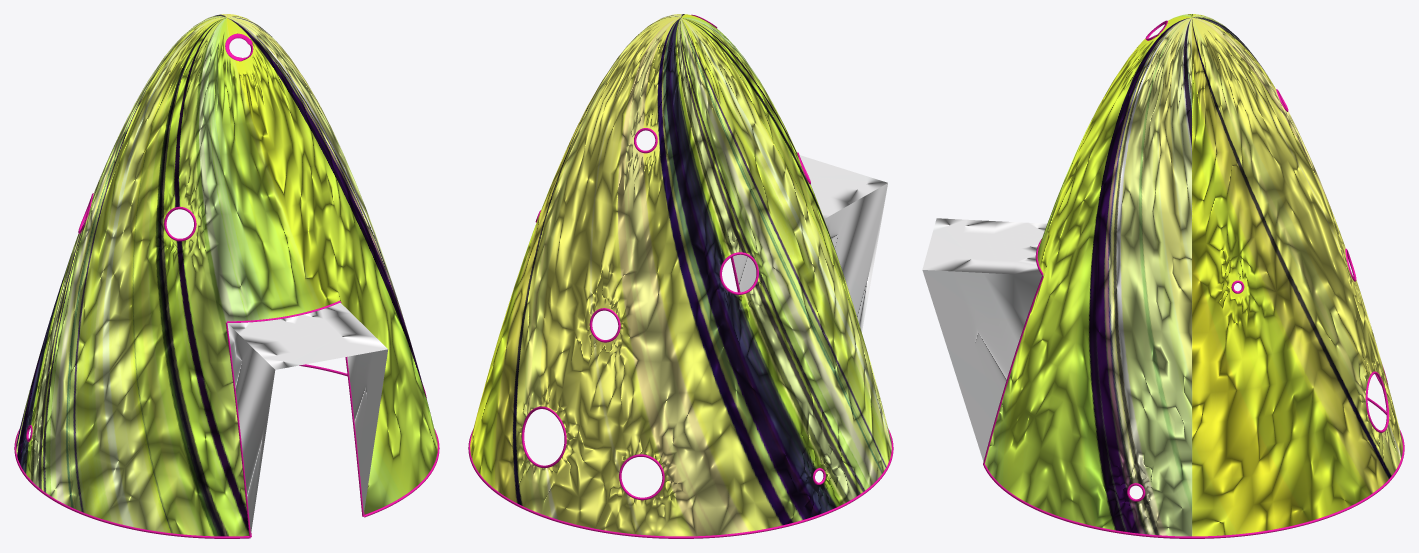
The picture shows the model from 3 angles, left to right: view 1: azimuth 30°, elevation 25°; view 2: azimuth 150°, elevation 25°; view 3: azimuth 270°, elevation 25°; orthographic projection.
Parts seen in each view (by area): view 1: Solids, Solids_2, Canopy_2, Openings, Canopy; view 2: Solids, Solids_2, Canopy_2, Openings, Canopy; view 3: Solids, Solids_2, Canopy_2, Openings.
Boxes of the visible parts, x1=… form: Solids: x1=16, y1=14, x2=437, y2=536; Solids_2: x1=16, y1=15, x2=437, y2=535; Canopy_2: x1=227, y1=302, x2=387, y2=533; Openings: x1=14, y1=33, x2=439, y2=538; Canopy: x1=347, y1=349, x2=387, y2=514; Solids: x1=470, y1=14, x2=891, y2=536; Solids_2: x1=470, y1=15, x2=891, y2=536; Canopy_2: x1=799, y1=155, x2=887, y2=332; Openings: x1=468, y1=14, x2=893, y2=538; Canopy: x1=733, y1=254, x2=756, y2=292; Solids: x1=985, y1=14, x2=1402, y2=536; Solids_2: x1=986, y1=16, x2=1402, y2=536; Canopy_2: x1=922, y1=218, x2=1046, y2=461; Openings: x1=983, y1=20, x2=1404, y2=538.
Bounding box in the file's own units: 10.01 × 11.22 × 11.35.
Materials: 3 (3 with a texture image).
